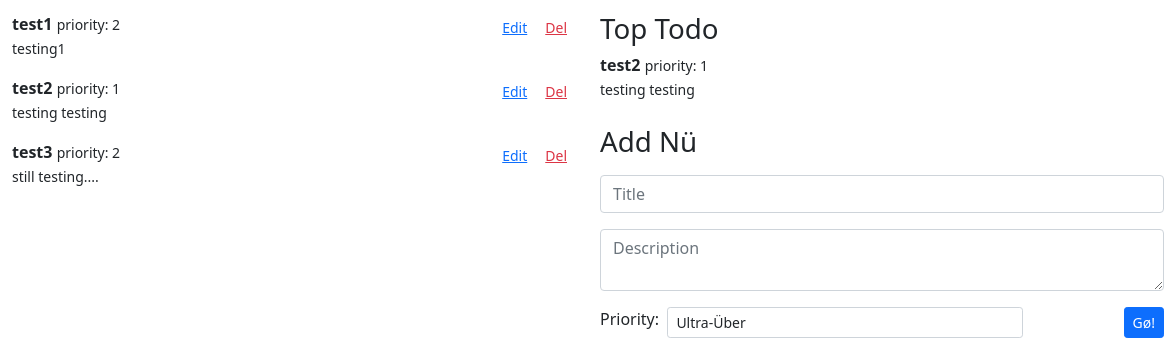
TodoApp component › deletes a todo on clicking delete button
Click the button with class "EditableTodo-delBtn" in the row of "testing1" at (556,28), box [536,12,576,43]
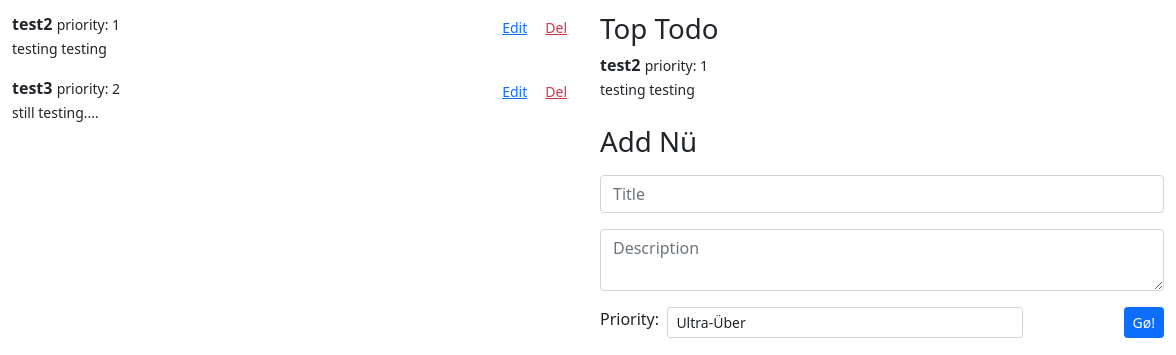
Result: the text "test1" is gone
